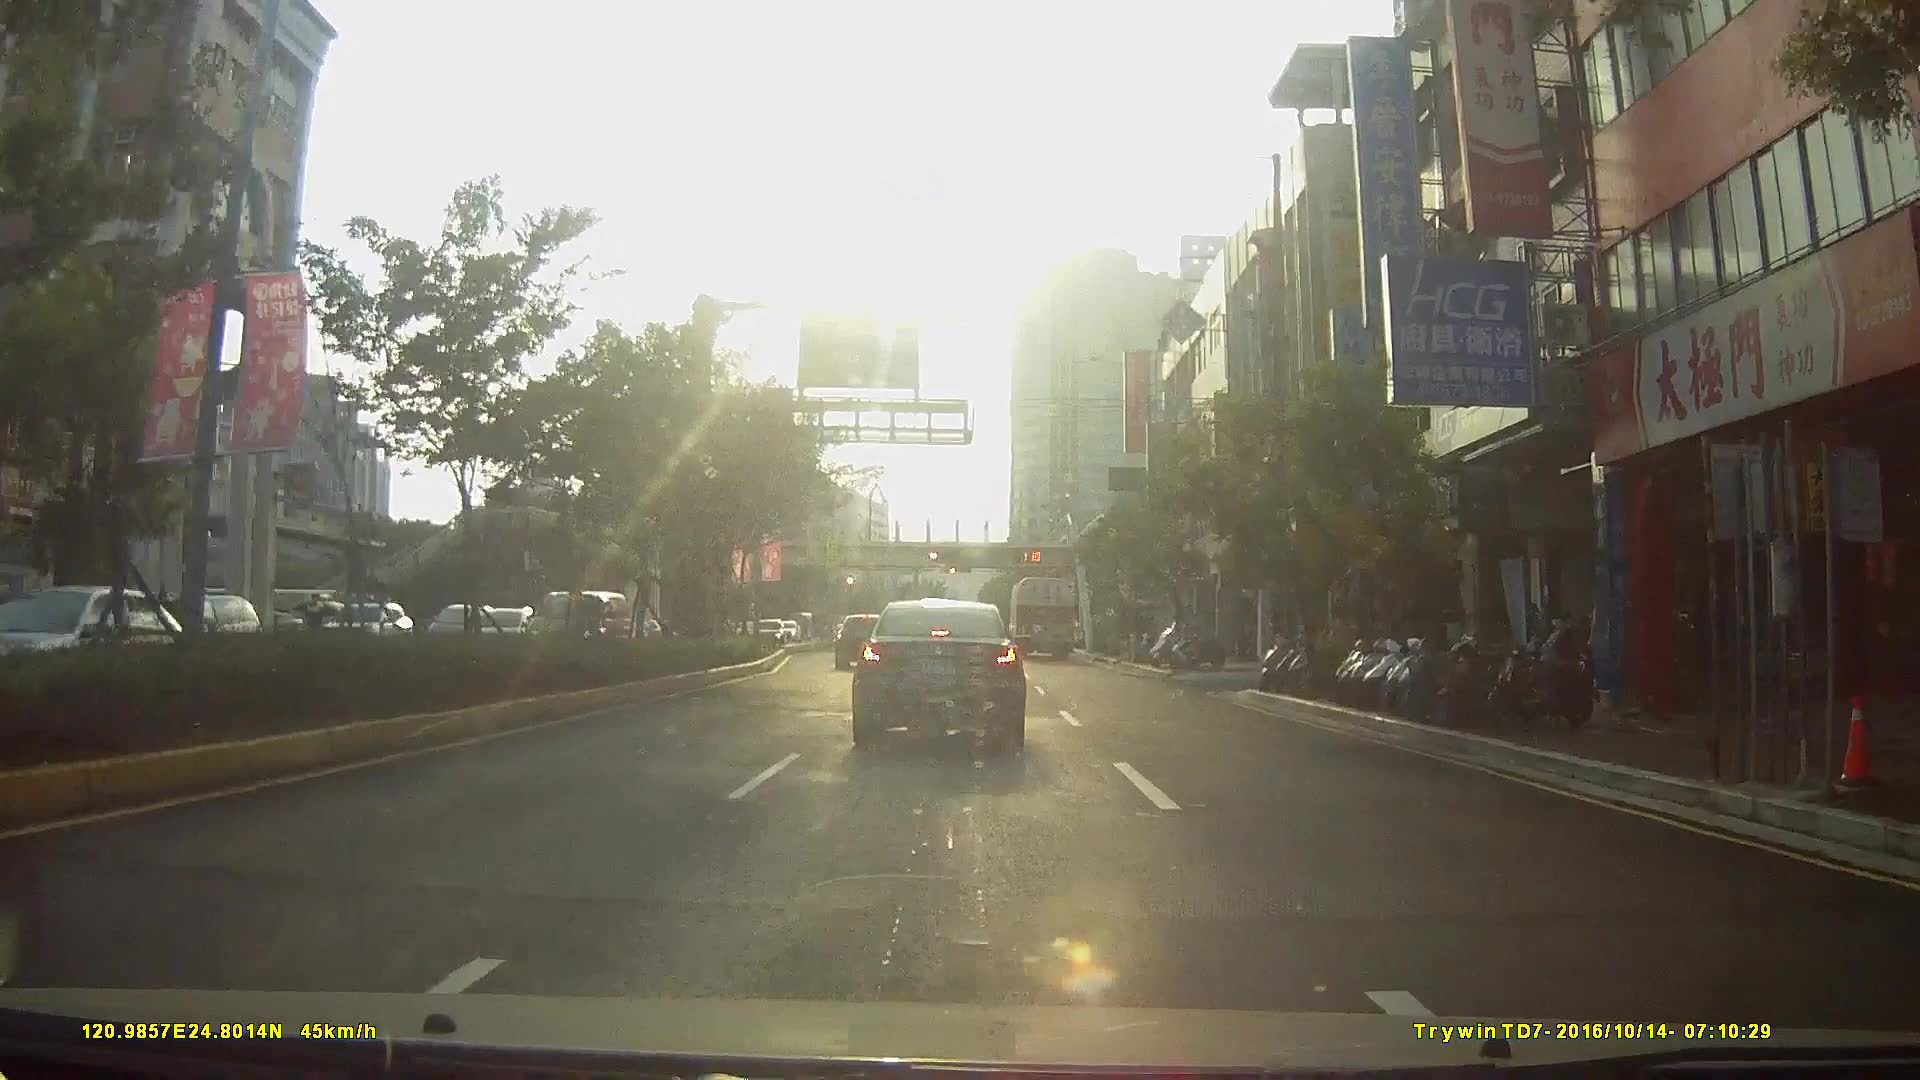vehicle: (1, 584, 256, 699), (851, 587, 1026, 744), (11, 582, 127, 661), (144, 591, 256, 659), (524, 589, 634, 655), (1005, 572, 1079, 659), (831, 609, 890, 666), (748, 615, 785, 645)
